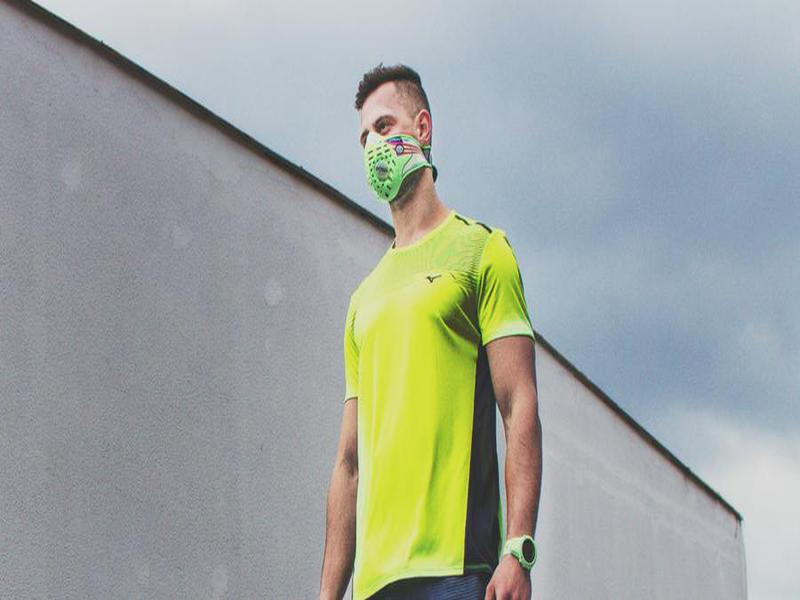with_mask: (351, 63, 443, 209)
